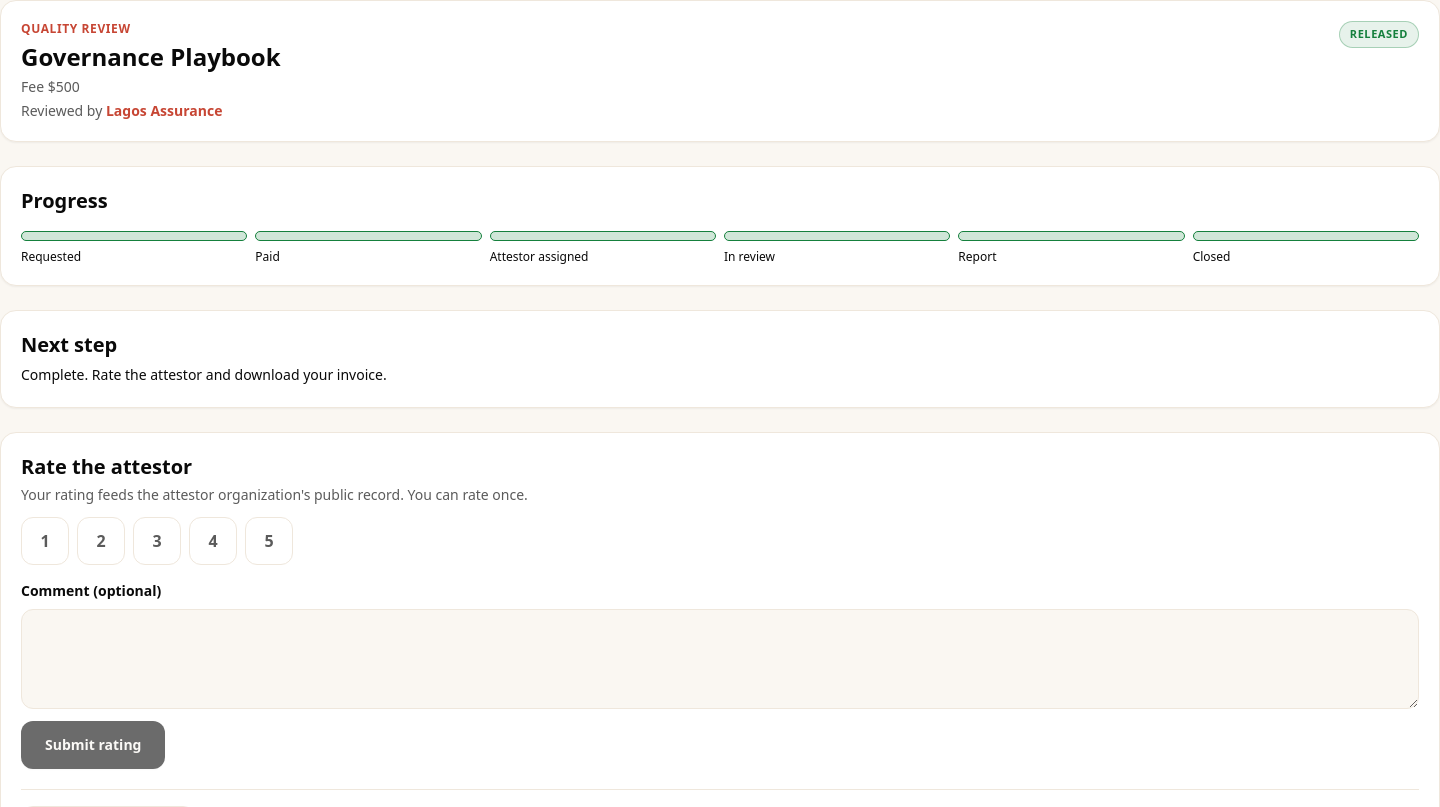
Test: AttestationDetail settled request › rates the attestor once the request is released
Click the button named "4 stars" at (213, 541), box [189,517,237,565]
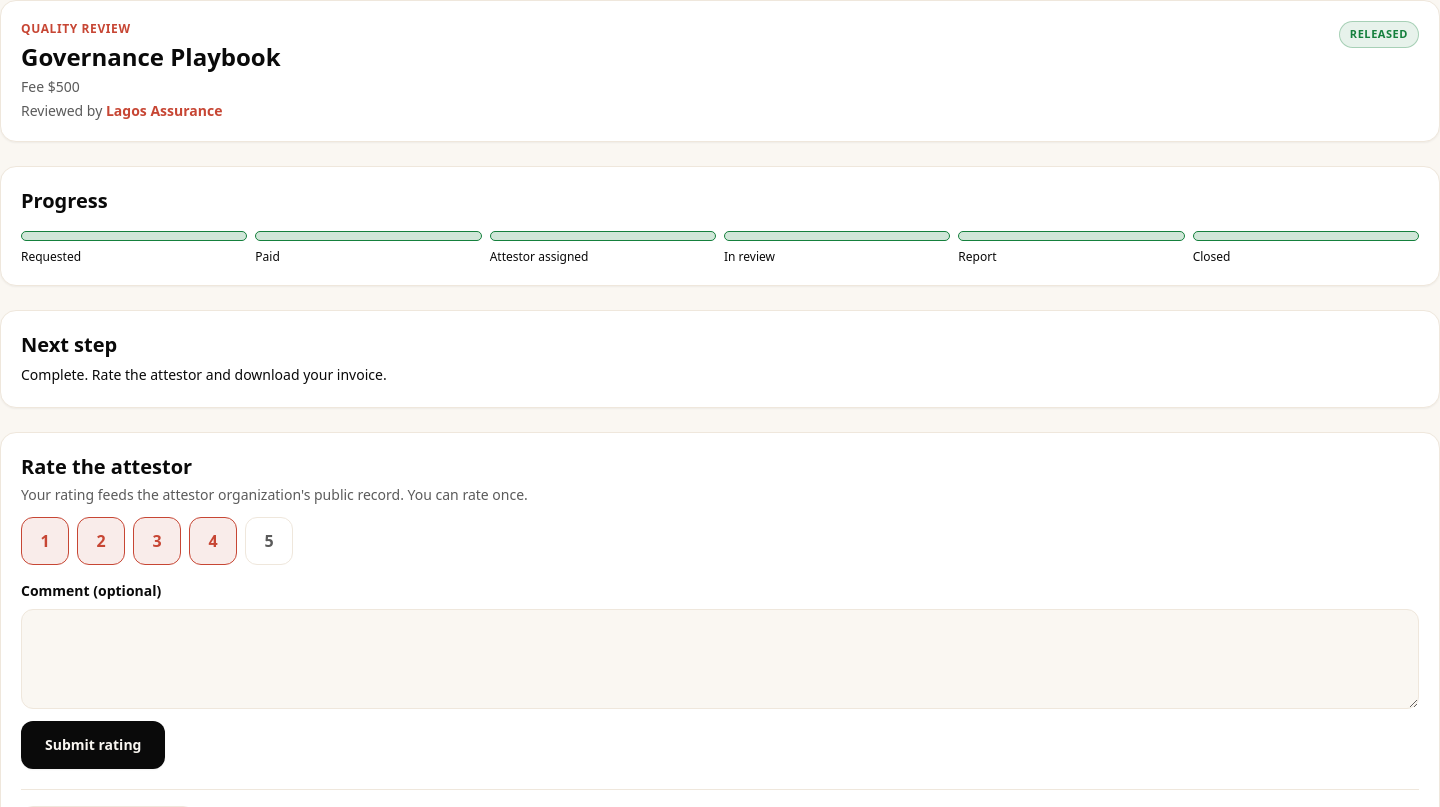
Type "Clear and on time." into the text box labelled "Comment (optional)" at (720, 659), box [21,609,1419,709]
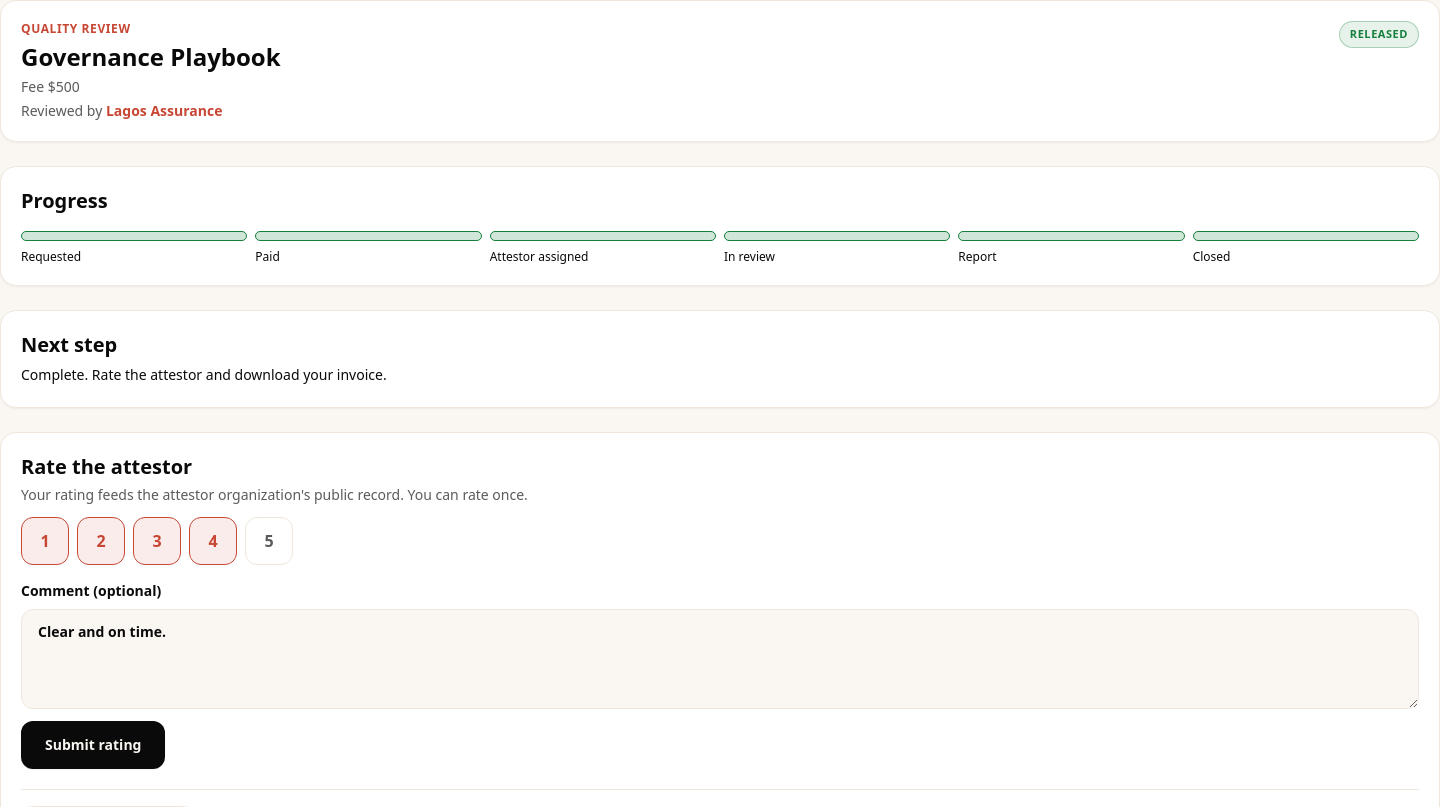
Click the button "Submit rating" at (93, 745), box [21,721,166,769]
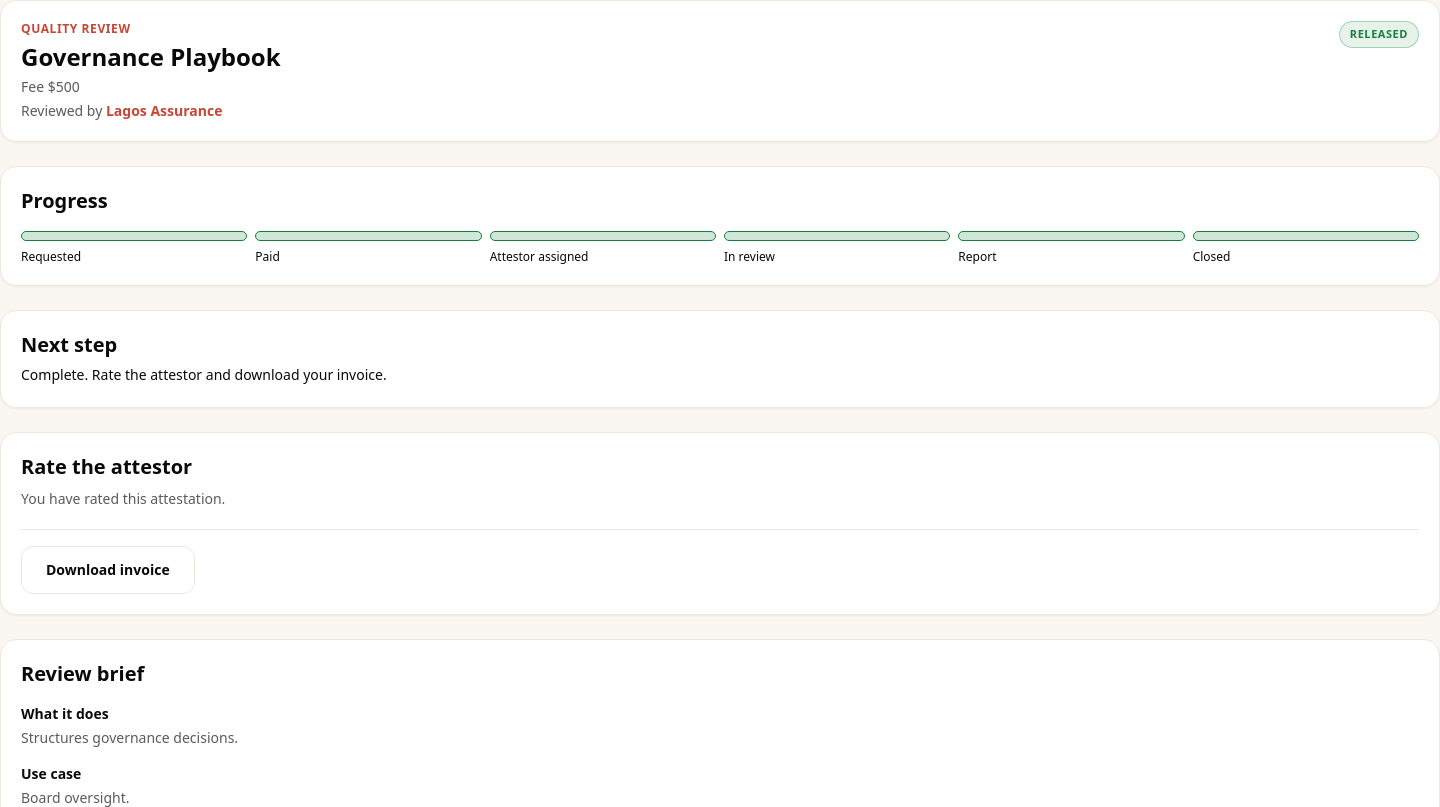
Check: the text "You have rated this attestation." is shown, box [21,489,225,508]
